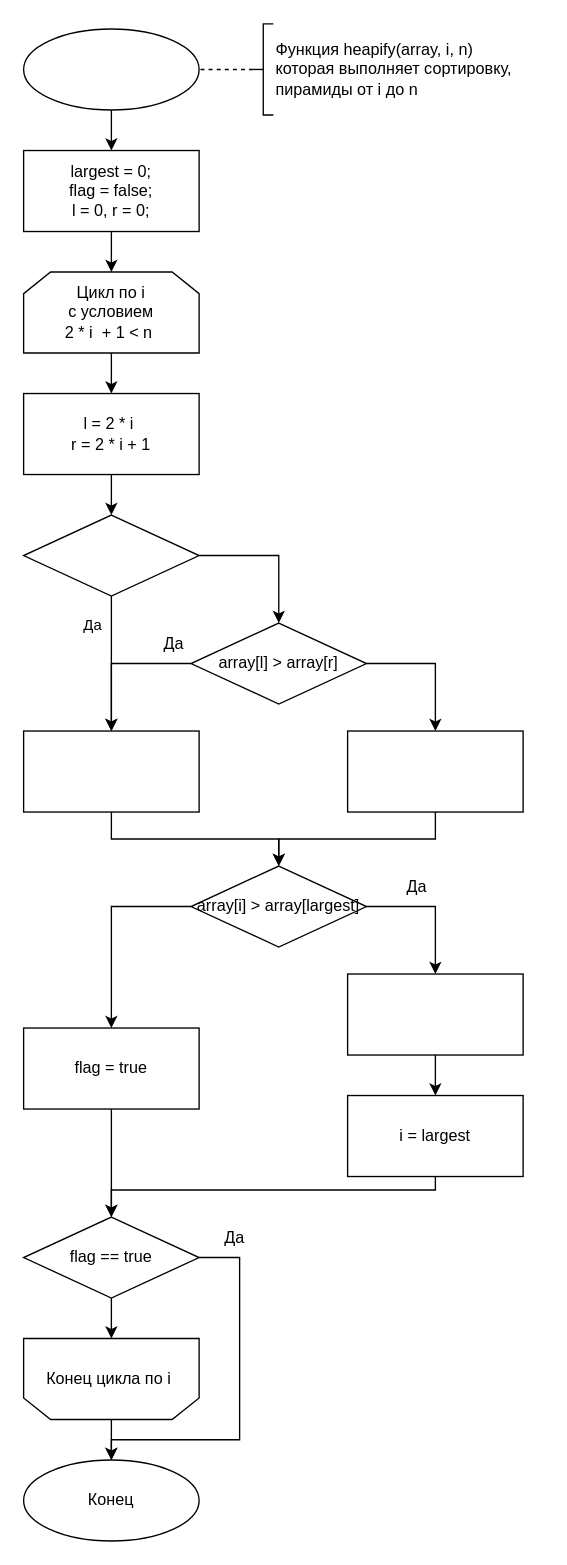
This 567x1565 diagram has some shape labels left out. Here are the shapes that lost their labels. From the top down, the centre of each, then its label:
At (x=110, y=69): "Начало".
At (x=110, y=555): "l == n".
At (x=110, y=771): "largest = l".
At (x=434, y=771): "largest = r".
At (x=434, y=1014): "Обмен местами array[i] и array[largest]".
